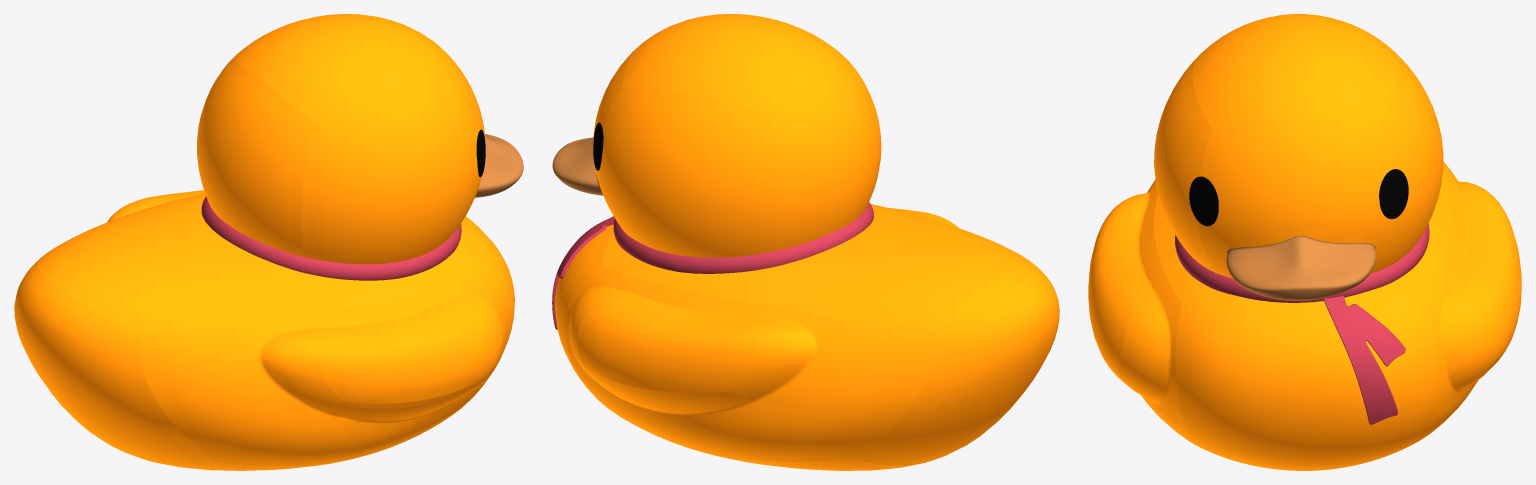
Rendered from DUCK 3.fbx.
3 views of the same model, side by side, from view 1: azimuth 30°, elevation 25°; view 2: azimuth 150°, elevation 25°; view 3: azimuth 270°, elevation 25° (orthographic). The views are drawn at different scales.
Parts seen in each view (by area): view 1: 物件_1; view 2: 物件_1; view 3: 物件_1.
Boxes of the visible parts, x1,y1,x2,y2 form: 物件_1: (14,14,523,470); 物件_1: (552,14,1059,470); 物件_1: (1088,14,1521,470).
Bounding box in the file's own units: 30.61 × 23.95 × 22.83.
